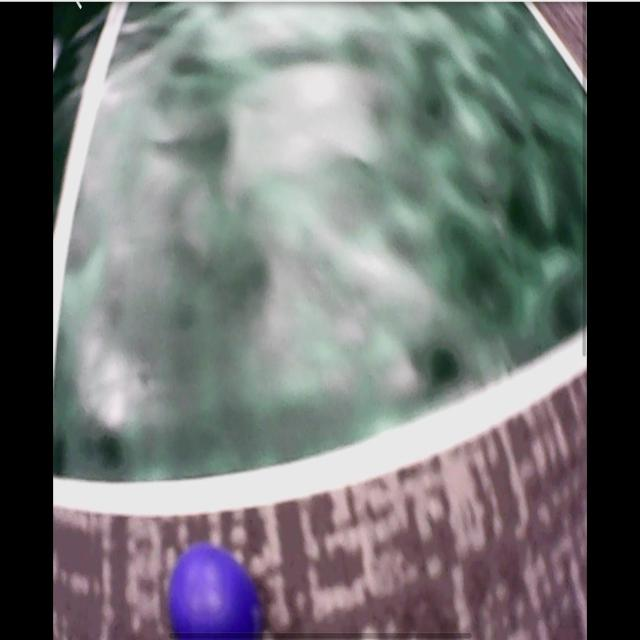ball: (172, 548, 260, 640)
